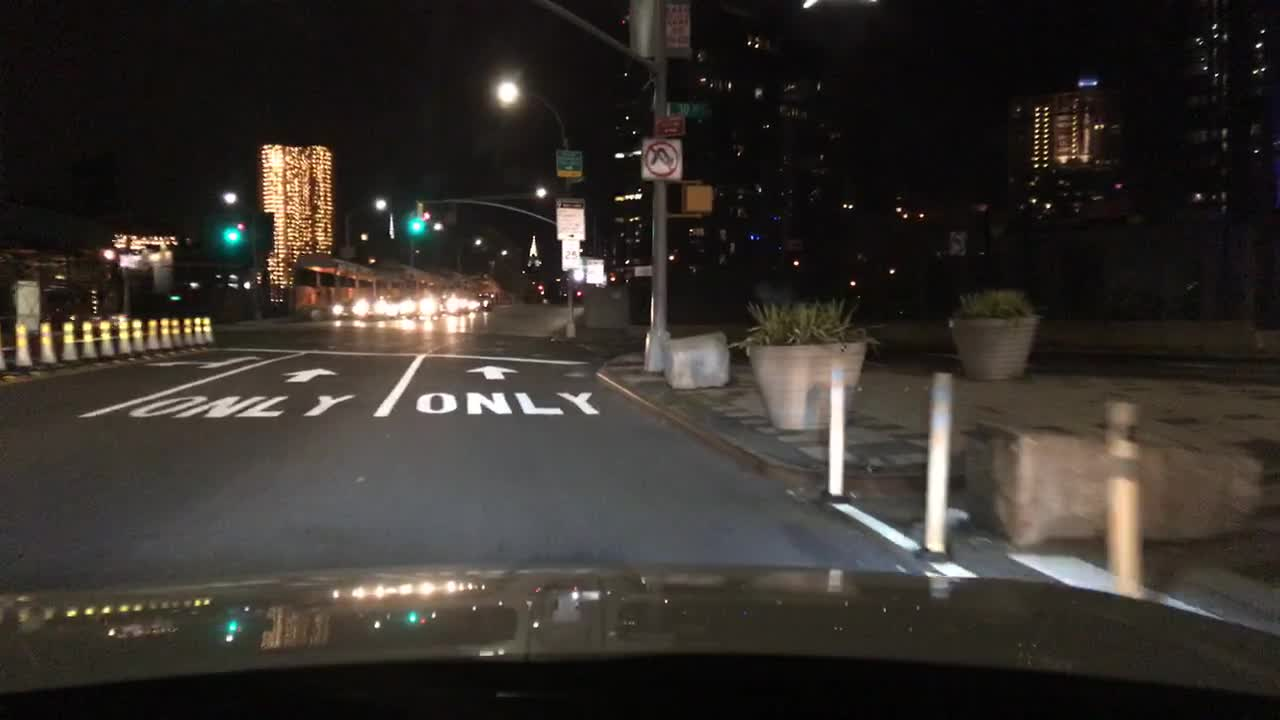car: (329, 294, 371, 321), (402, 294, 445, 317), (361, 296, 398, 319), (444, 294, 472, 316), (381, 297, 409, 319), (475, 291, 494, 310), (464, 296, 482, 311)
traffic light: (661, 176, 713, 218), (221, 225, 243, 247), (408, 216, 426, 230), (574, 289, 587, 299), (535, 283, 547, 293)
traffic sign: (640, 136, 685, 181), (554, 196, 590, 242), (663, 3, 694, 51), (663, 99, 717, 121), (553, 146, 585, 178), (657, 112, 689, 140), (586, 256, 607, 286), (561, 241, 583, 268), (632, 264, 654, 277)
